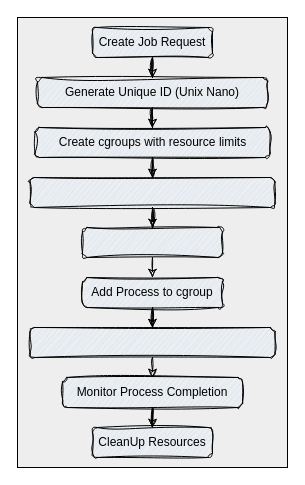
The diagram is 305 pixels wide and 485 high, and some of its shapes have lost their labels. Each missing label, with the centre of its shape:
Add Stdout/Stderr capture: [152,192]
Start Process by syscall.SIGCONT: [152,342]
syscall.SIGSTOP: [152,242]
